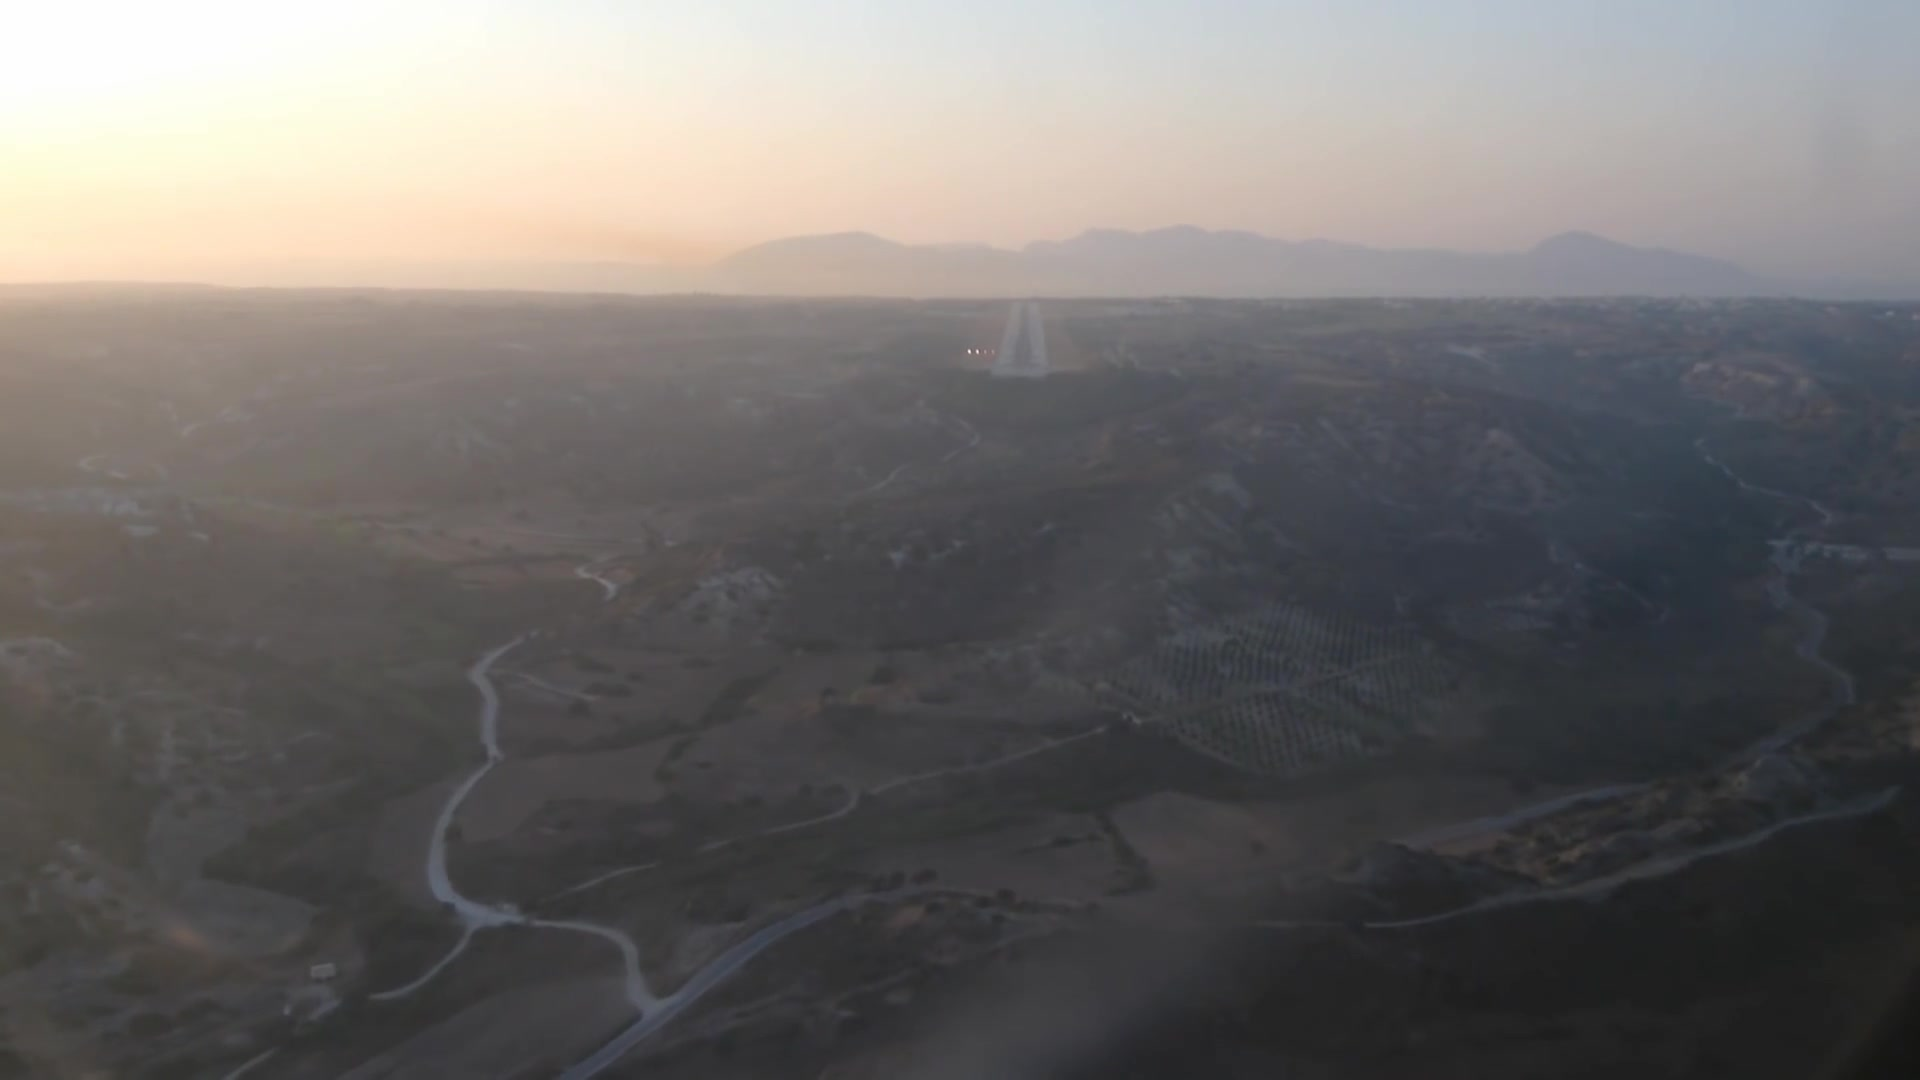runway: (993, 299, 1052, 384)
